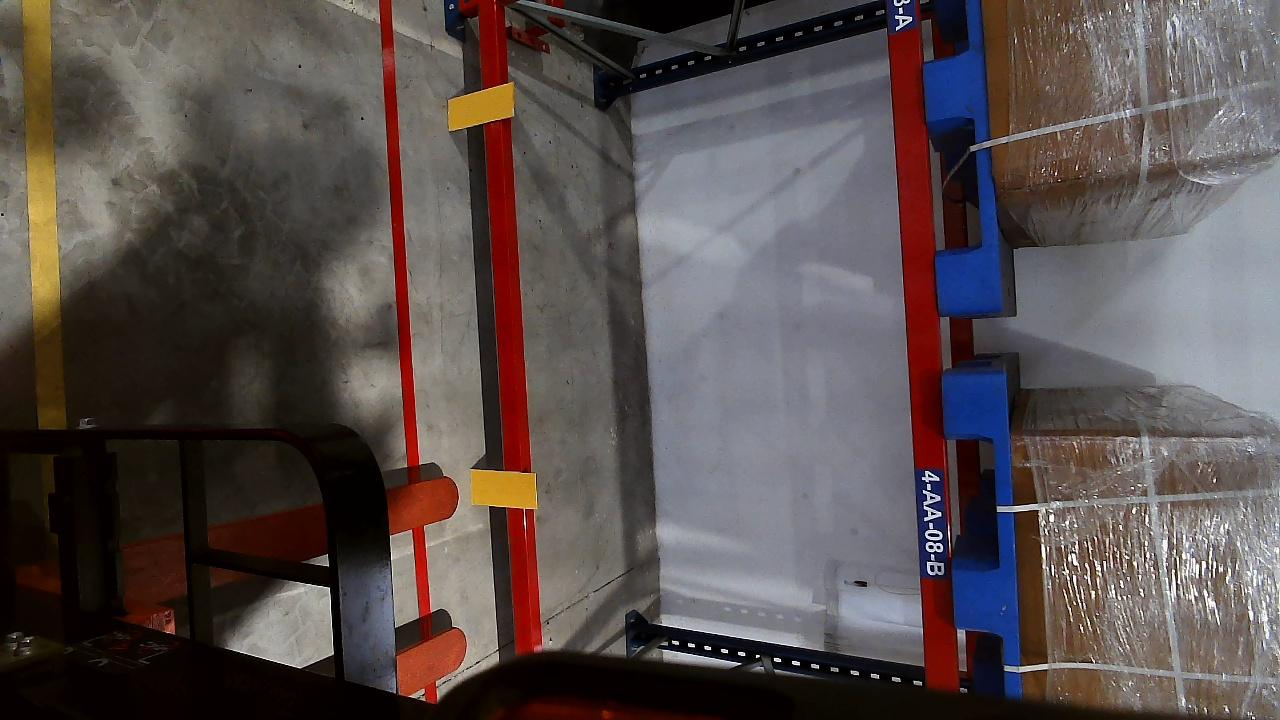h_rack: (883, 0, 953, 618), (475, 64, 533, 657)
orange_strip: (445, 83, 515, 129), (468, 469, 537, 509)
red_line: (379, 4, 422, 602)
small_pallet: (916, 1, 1008, 309), (942, 364, 1024, 679)
yellow_line: (19, 2, 66, 429)
